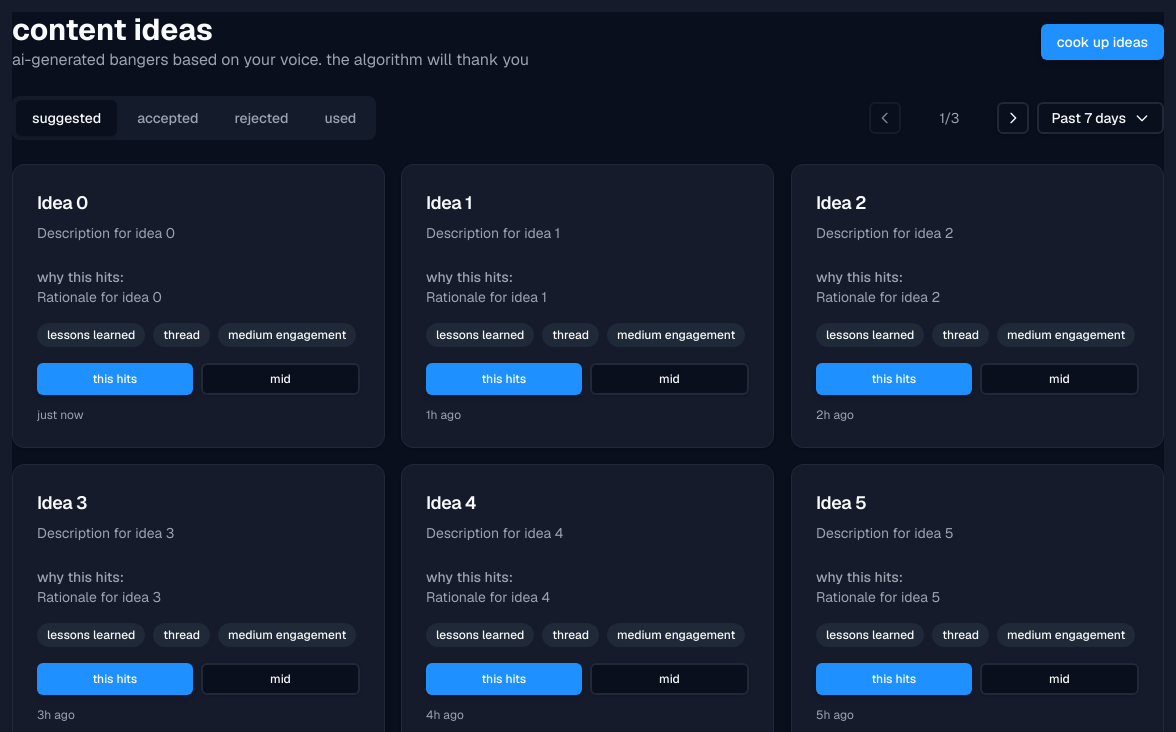
Scenario: Ideas Dashboard - Pagination Integration › Page Navigation › should navigate to previous page when prev button is clicked
The width and height of the screenshot is (1176, 732).
Note: Go to page 2
Click the button named "Next page". click: (1013, 118)
box: [997,102,1029,134]
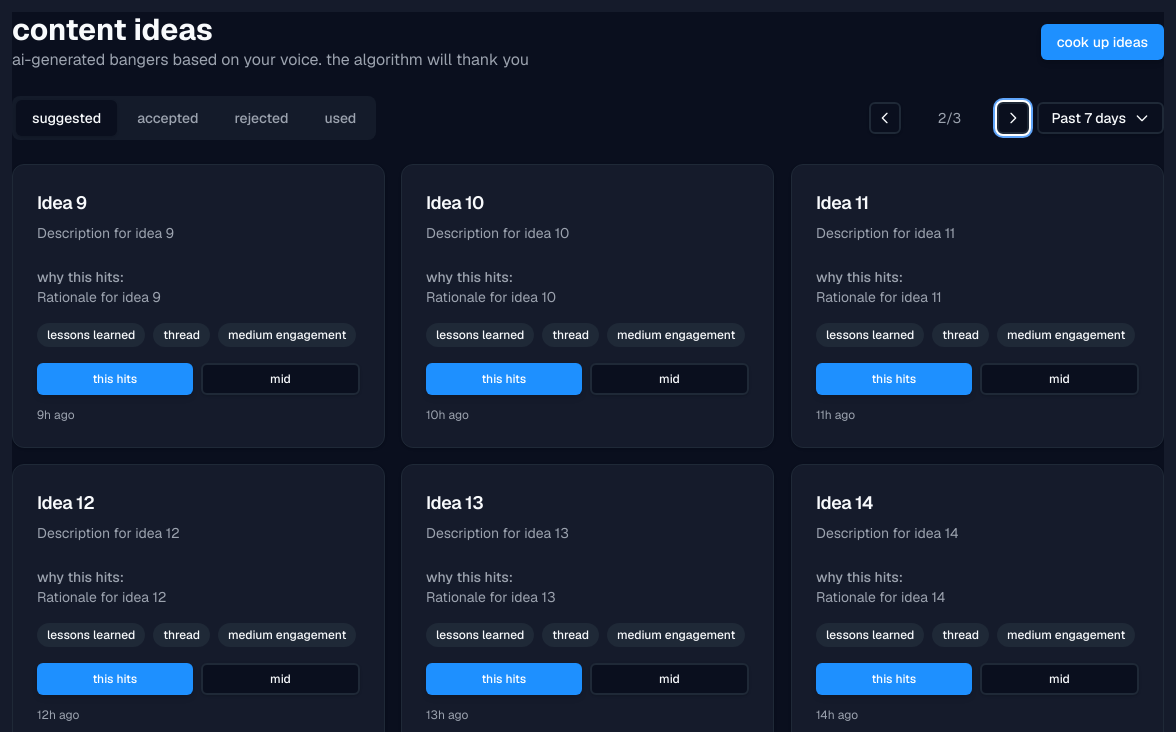
expect the text "2/3" is shown: met, box [938,109,961,127]
Note: Click previous
Click the button named "Previous page". click: (885, 118)
box: [869,102,901,134]
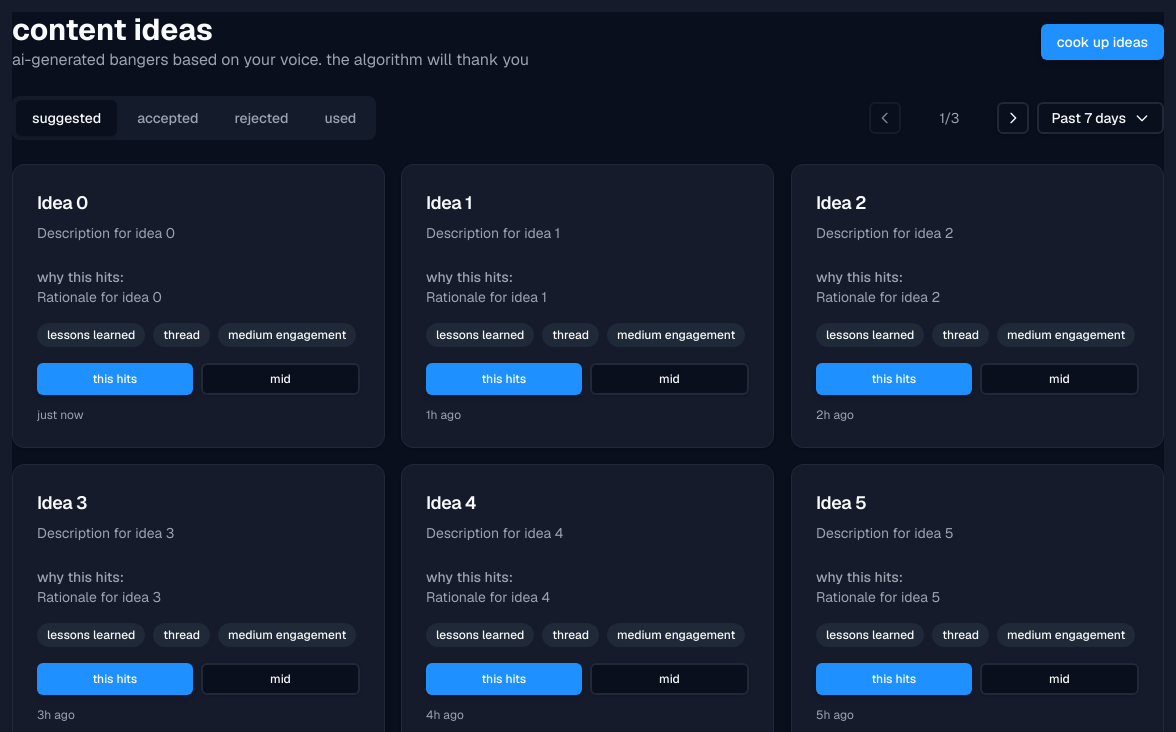
expect the text "1/3" is shown: met, box [940,109,959,127]
expect the heading "Idea 0" is shown: met, box [37,191,88,214]
